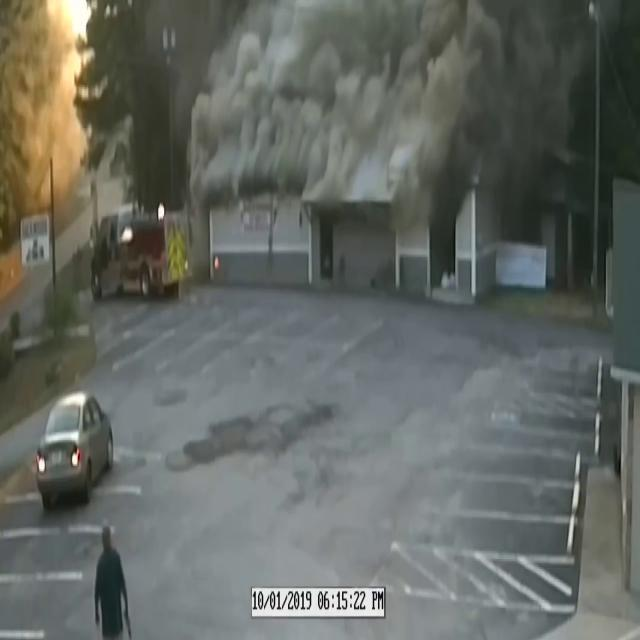Smoke: (185, 1, 593, 242)
